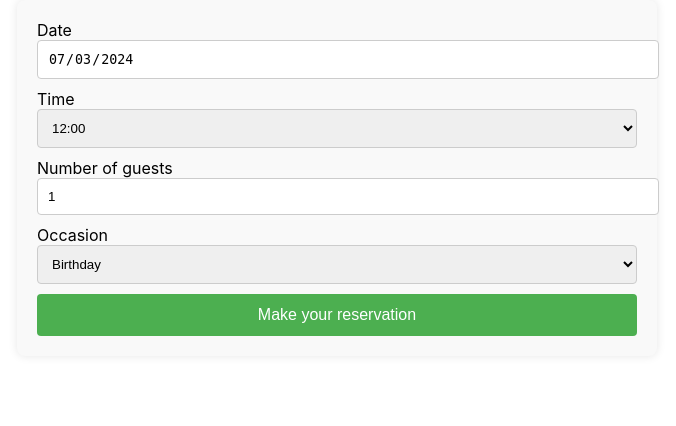
it: BookingForm component › should show error message when date input is invalid
This screenshot has width=676, height=426.
Clear the date field labelled "Date" at (348, 60), box [37,40,659,79]
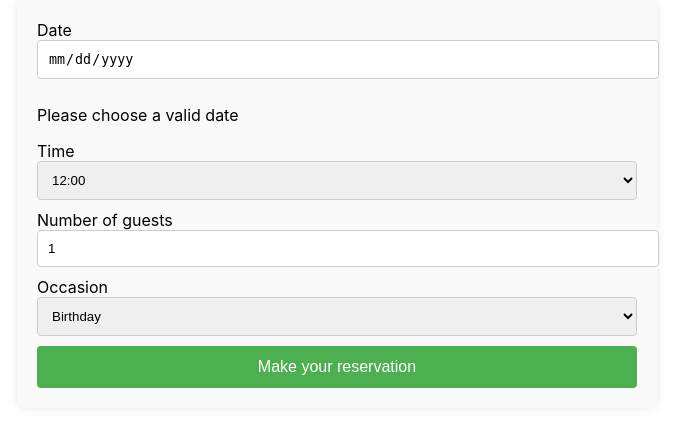
Expected: the text "Please choose a valid date" is shown, [37,105,238,125]
